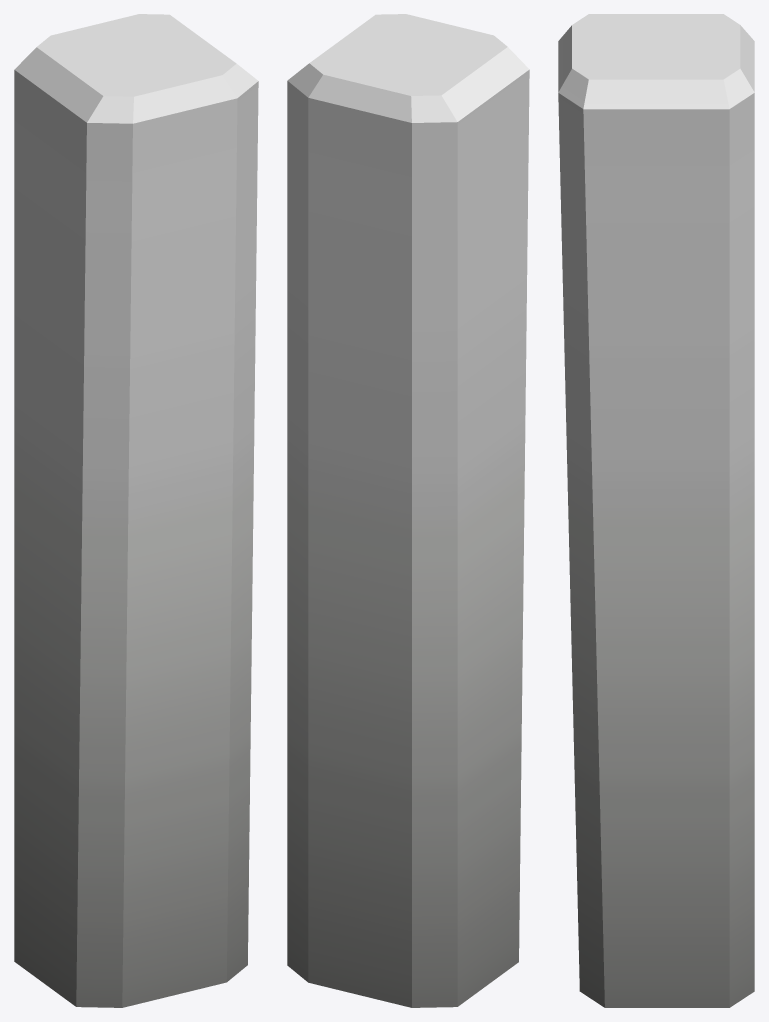
The model's file is Fence_1_A_2.fbx.
The picture shows the model from 3 angles, left to right: view 1: azimuth 30°, elevation 25°; view 2: azimuth 150°, elevation 25°; view 3: azimuth 270°, elevation 25°; orthographic projection.
Visible parts, largest first — view 1: Fence_1_A_2; view 2: Fence_1_A_2; view 3: Fence_1_A_2.
Boxes of the visible parts, <box> form: Fence_1_A_2: <box>14,14,258,1007</box>; Fence_1_A_2: <box>287,14,529,1007</box>; Fence_1_A_2: <box>558,14,754,1007</box>.
Bounding box in the file's own units: 11.29 × 57.36 × 11.11.
